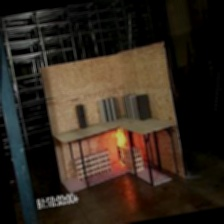fire: (100, 123, 131, 162)
